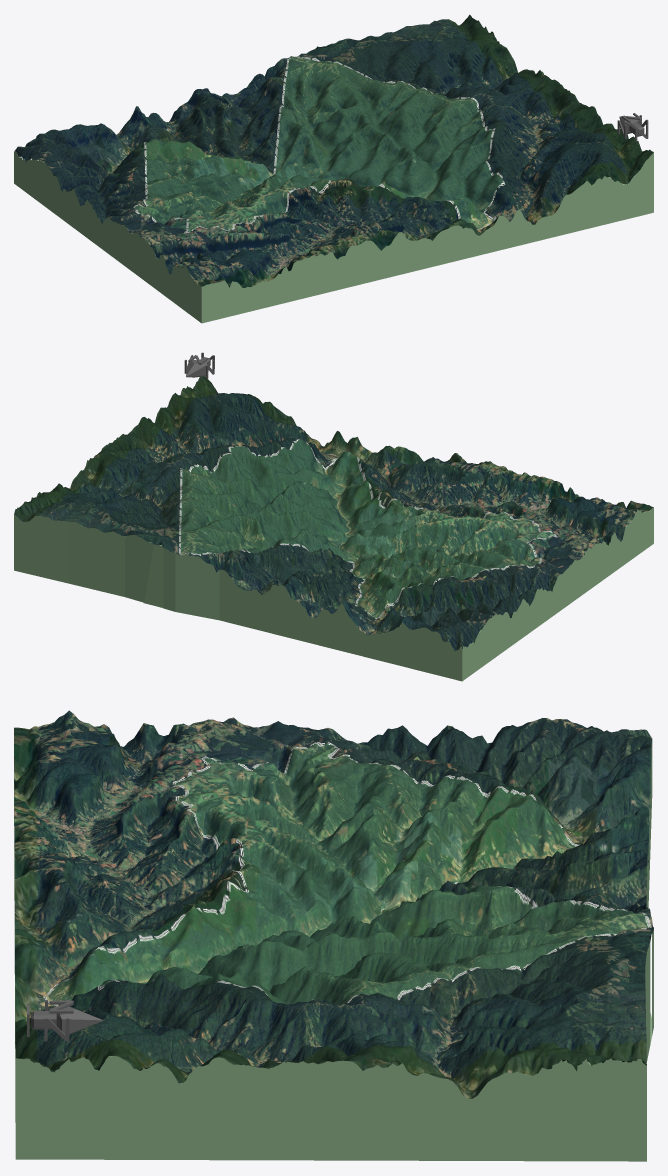
File: modelo v2b.glb
3 views of the same model, one above another, from view 1: azimuth 30°, elevation 25°; view 2: azimuth 150°, elevation 25°; view 3: azimuth 270°, elevation 25° (orthographic). The views are drawn at different scales.
Parts seen in each view (by area): view 1: srtm exagero 4, side; view 2: srtm exagero 4, side; view 3: srtm exagero 4, side, Cube.
Part boxes in pixels (bbox=[...]): srtm exagero 4: bbox=[15, 14, 653, 287]; side: bbox=[14, 48, 653, 323]; srtm exagero 4: bbox=[14, 376, 653, 651]; side: bbox=[14, 507, 653, 681]; srtm exagero 4: bbox=[14, 710, 653, 1099]; side: bbox=[14, 743, 653, 1161]; Cube: bbox=[31, 1000, 103, 1038].
Size of the model in its own units: 30.79 by 5.65 by 22.33.
7 materials, 1 textured.
